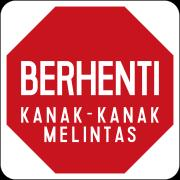Stop: (4, 18, 170, 170)
